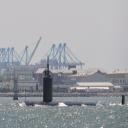submarine: (24, 80, 126, 108)
